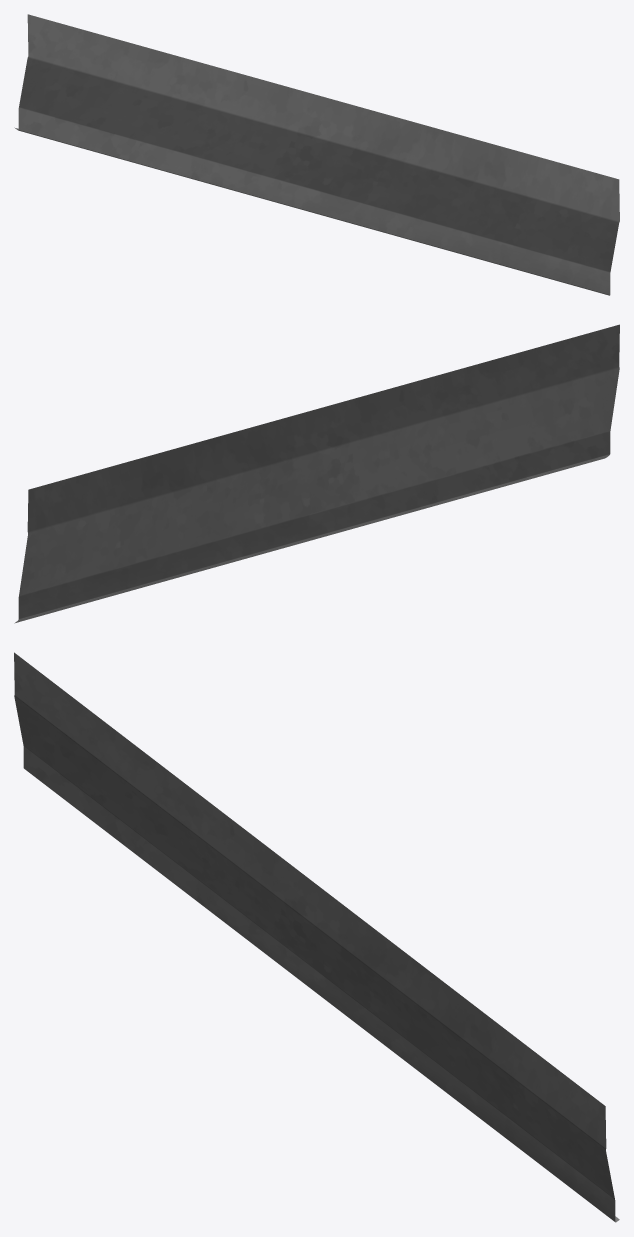
Rendered from TrimV3_RoofStraight.fbx.
3 views of the same model, one above another, from view 1: azimuth 30°, elevation 25°; view 2: azimuth 150°, elevation 25°; view 3: azimuth 330°, elevation 25° (orthographic).
Parts seen in each view (by area): view 1: TrimV3_RoofStraight; view 2: TrimV3_RoofStraight; view 3: TrimV3_RoofStraight.
Boxes of the visible parts, <box> form: TrimV3_RoofStraight: <box>14,14,619,295</box>; TrimV3_RoofStraight: <box>14,324,619,623</box>; TrimV3_RoofStraight: <box>14,652,619,1222</box>.
Size of the model in its own units: 501 by 350 by 20.55.
1 material, 1 textured.
